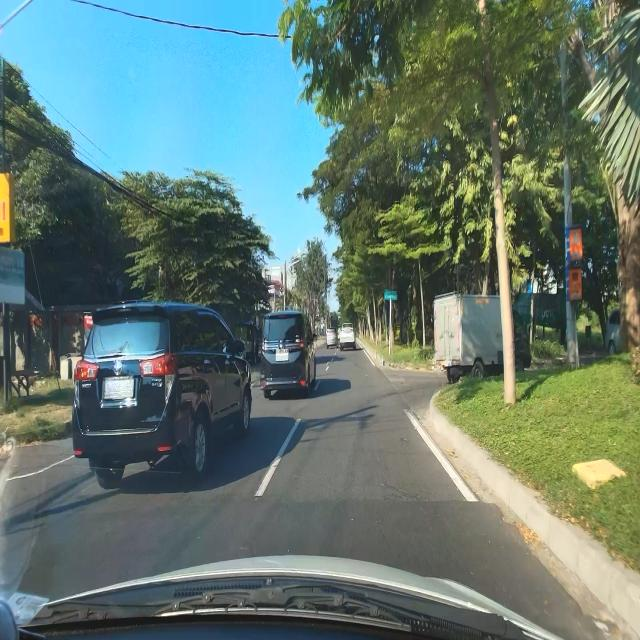car: (66, 294, 254, 492), (432, 289, 534, 394), (259, 307, 318, 401)
